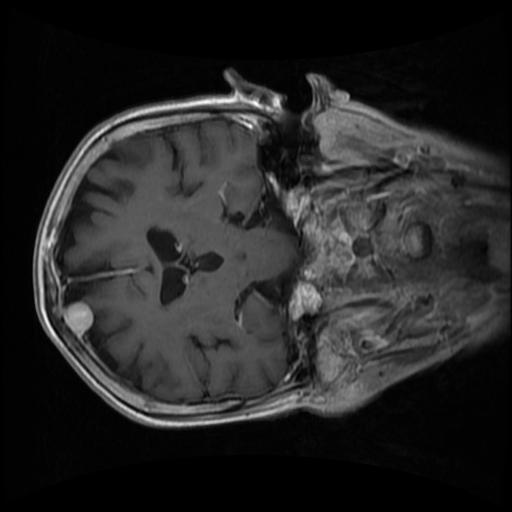meningioma: (65, 301, 93, 335)
